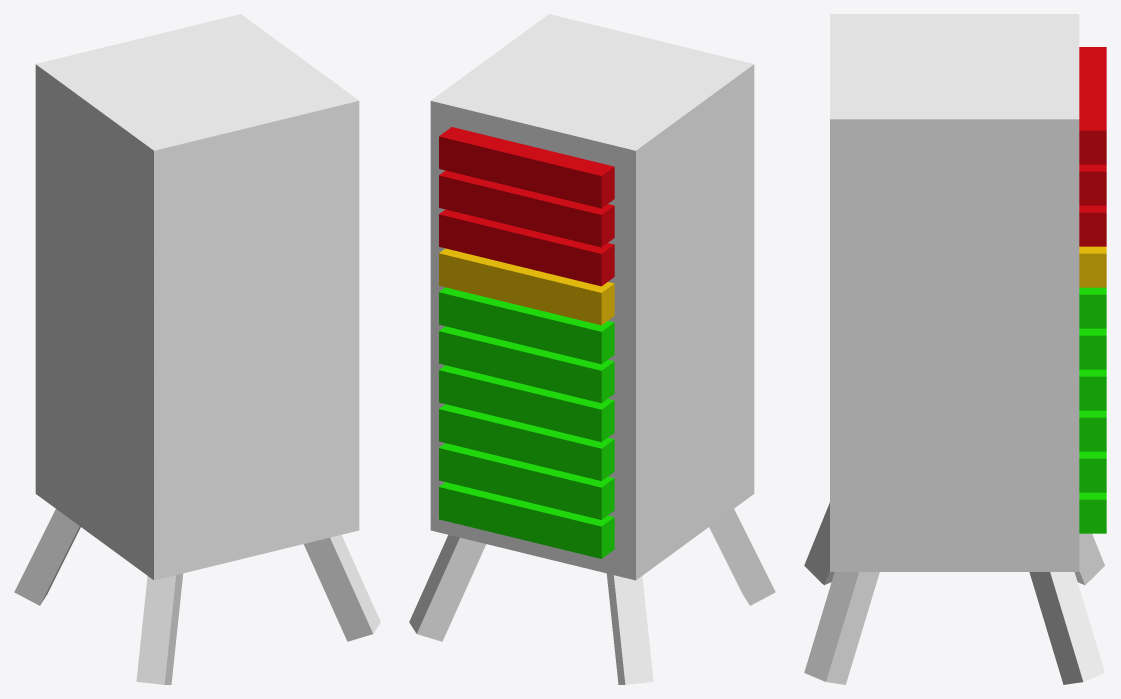
File: Battery.glb
3 views of the same model, side by side, from view 1: azimuth 30°, elevation 25°; view 2: azimuth 150°, elevation 25°; view 3: azimuth 270°, elevation 25° (orthographic). The views are drawn at different scales.
Visible parts, largest first — view 1: Core, Legs; view 2: Core, Legs, Counter.009, Counter, Counter.001, Counter.004, Counter.005, Counter.006, Counter.002, Counter.003, Counter.007, Counter.008; view 3: Core, Legs, Counter.009, Counter, Counter.001, Counter.002, Counter.003, Counter.004, Counter.005, Counter.006, Counter.007, Counter.008.
Part boxes in pixels (x1,y1,x2,y2): Core: (35, 14, 359, 580); Legs: (14, 509, 380, 684); Core: (430, 14, 754, 580); Legs: (409, 509, 775, 684); Counter.009: (439, 127, 614, 208); Counter: (439, 482, 614, 558); Counter.001: (439, 443, 614, 519); Counter.004: (439, 326, 614, 403); Counter.005: (439, 287, 614, 364); Counter.006: (439, 248, 614, 325); Counter.002: (439, 404, 614, 480); Counter.003: (439, 365, 614, 441); Counter.007: (439, 209, 614, 286); Counter.008: (439, 170, 614, 247); Core: (830, 14, 1079, 571); Legs: (804, 502, 1104, 684); Counter.009: (1079, 47, 1106, 164); Counter: (1079, 492, 1106, 533); Counter.001: (1079, 451, 1106, 492); Counter.002: (1079, 410, 1106, 451); Counter.003: (1079, 369, 1106, 410); Counter.004: (1079, 328, 1106, 369); Counter.005: (1079, 287, 1106, 328); Counter.006: (1079, 246, 1106, 287); Counter.007: (1079, 205, 1106, 246); Counter.008: (1079, 164, 1106, 205).
Size of the model in its own units: 1.19 by 2.49 by 1.21.
